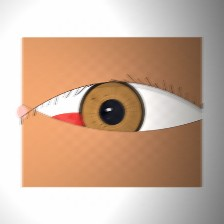hemorrhage_spot: (35, 89, 118, 156)
